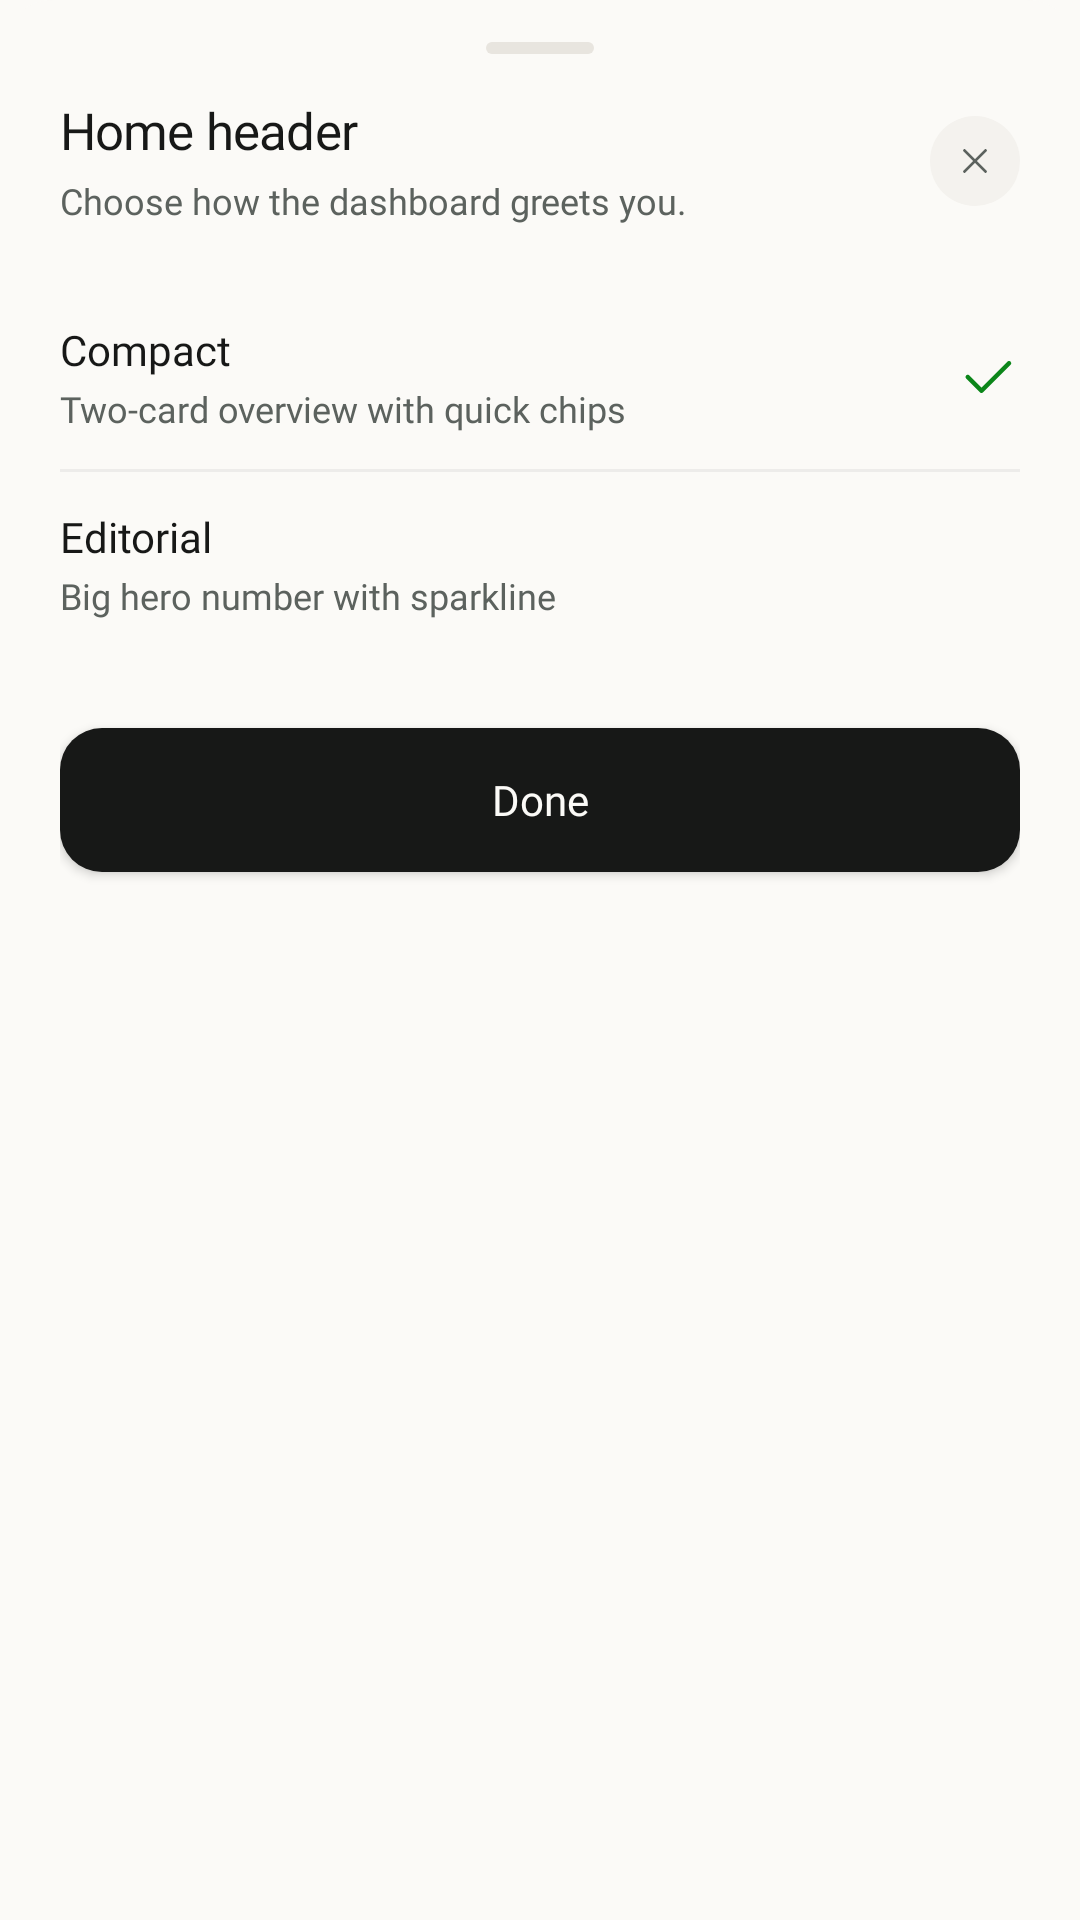

Named icons in this screenshot (1080px x 1920px) and their centers, (x,y):
check: (988,377)
close: (975,161)
